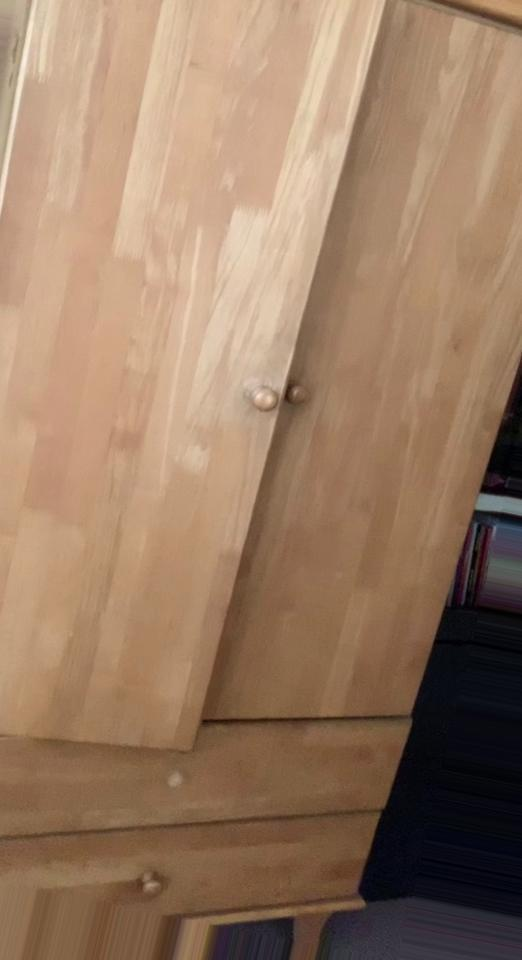Armario: (9, 20, 522, 940)
